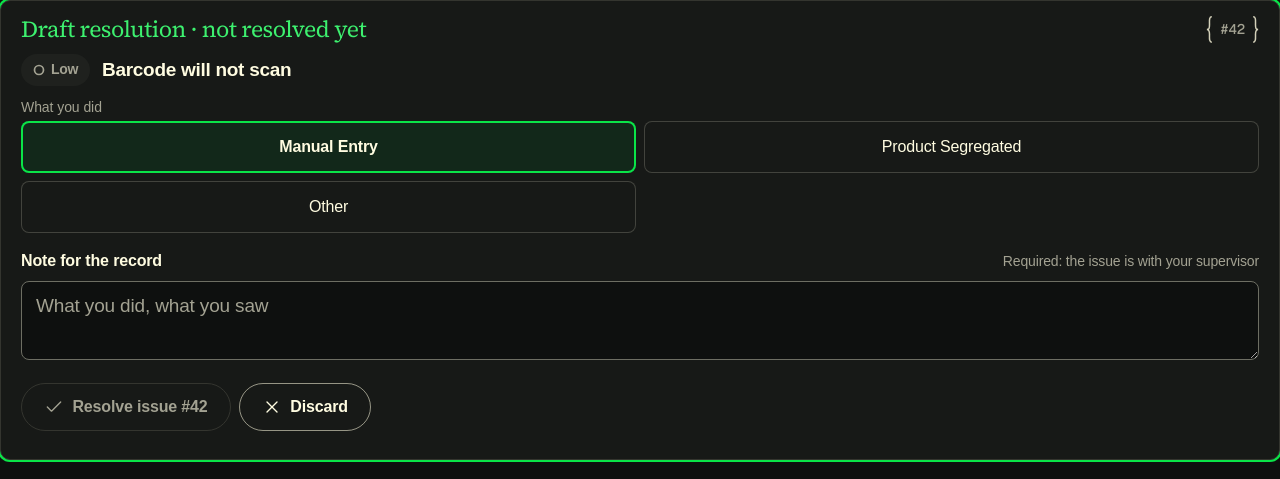
Scenario: Self-resolve draft on an escalated issue › asks the worker for their own note before it can be confirmed
Expected: the button "Resolve issue #42" is disabled, [21,383,231,431]
Type "Typed the code in by hand" into the text box labelled "Note for the record". click: {"x": 640, "y": 321}
box: [21,281,1259,360]
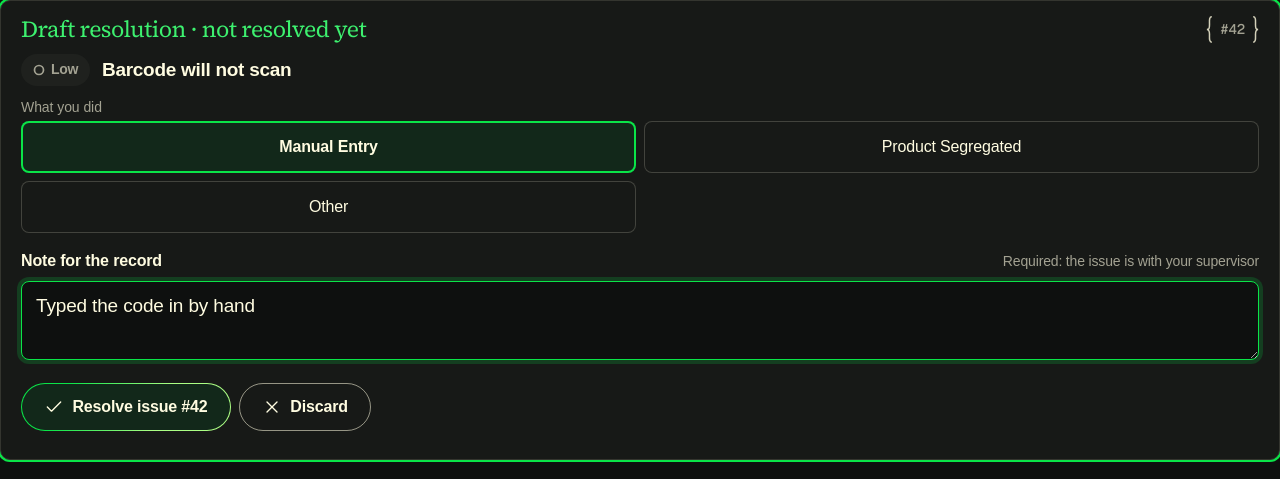
Result: the button "Resolve issue #42" is enabled at [21,383,231,431]
